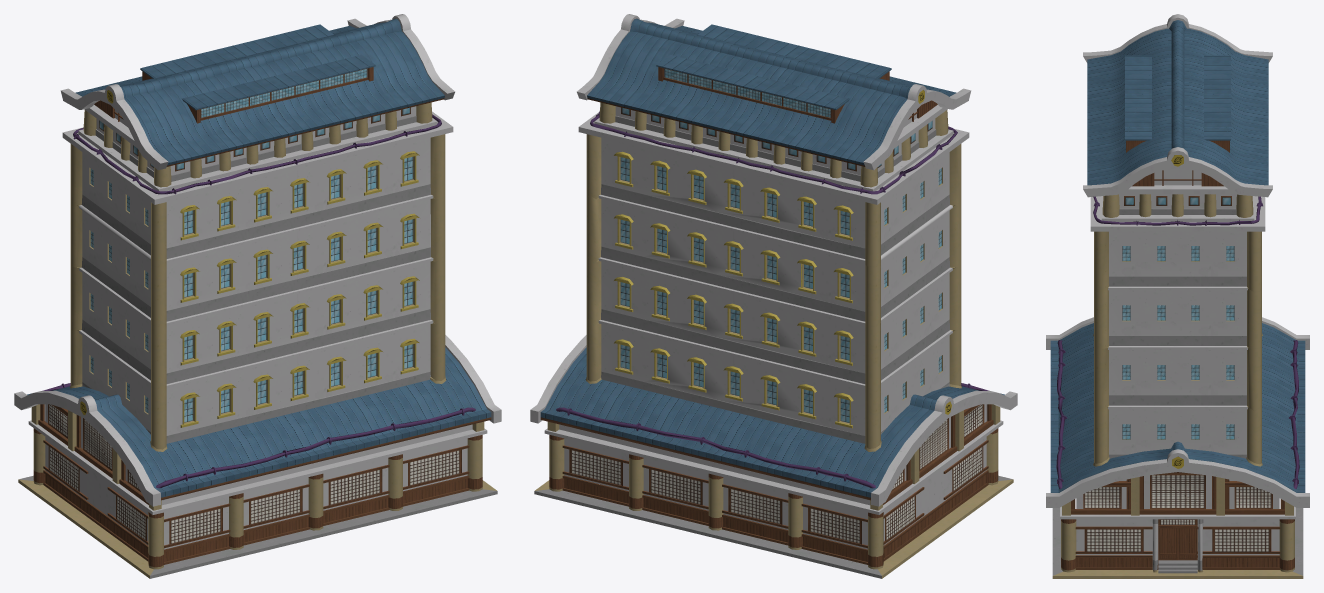
Rendered from SM_ENV_LKNVLD_CommonBuilding_A.FBX.
3 renders of one model, left to right at view 1: azimuth 30°, elevation 25°; view 2: azimuth 150°, elevation 25°; view 3: azimuth 270°, elevation 25°, orthographic. The views are drawn at different scales.
Parts seen in each view (by area): view 1: SM_ENV_LKNVLD_CommonBuilding_A; view 2: SM_ENV_LKNVLD_CommonBuilding_A; view 3: SM_ENV_LKNVLD_CommonBuilding_A.
Part boxes in pixels (<box>): SM_ENV_LKNVLD_CommonBuilding_A: <box>14,14,501,578</box>; SM_ENV_LKNVLD_CommonBuilding_A: <box>530,14,1017,578</box>; SM_ENV_LKNVLD_CommonBuilding_A: <box>1046,14,1309,578</box>.
Size of the model in its own units: 3505 by 4200 by 2413.
